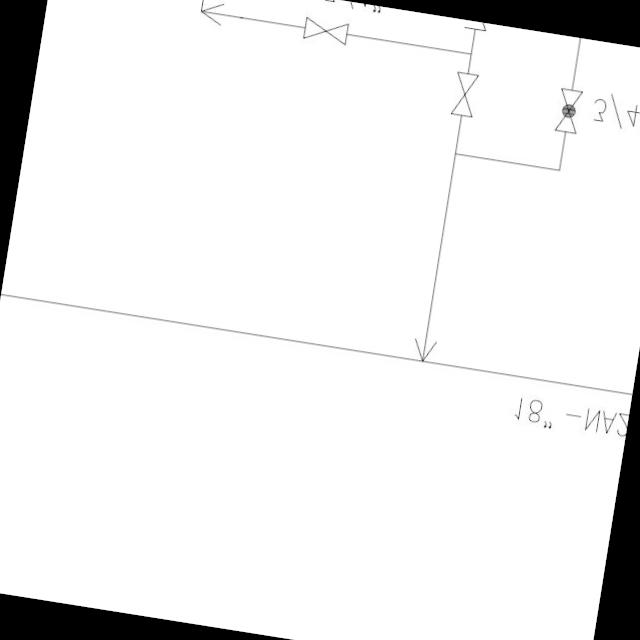BV2: (547, 81, 586, 142)
GV: (296, 12, 352, 48), (449, 66, 482, 122)
